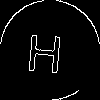H: (25, 25, 65, 74)
